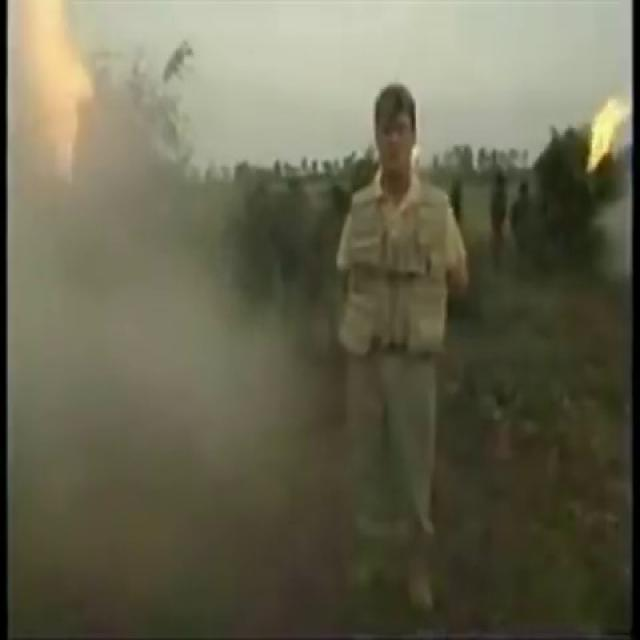Smoke: (6, 4, 338, 638)
